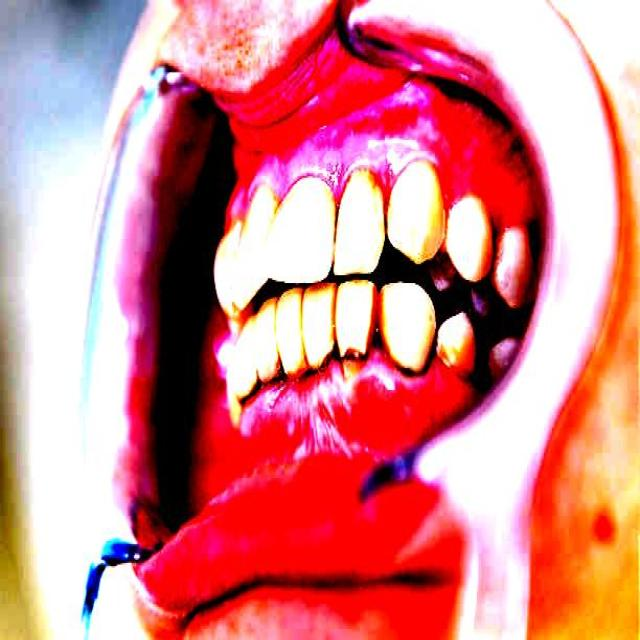caries: (341, 334, 371, 374), (234, 371, 264, 410), (268, 352, 294, 388), (319, 336, 342, 376), (294, 350, 318, 384)
